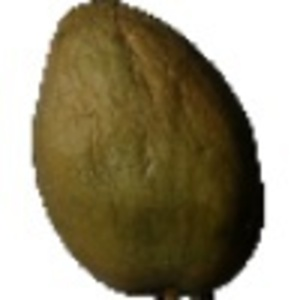mamão: (17, 1, 274, 291)
